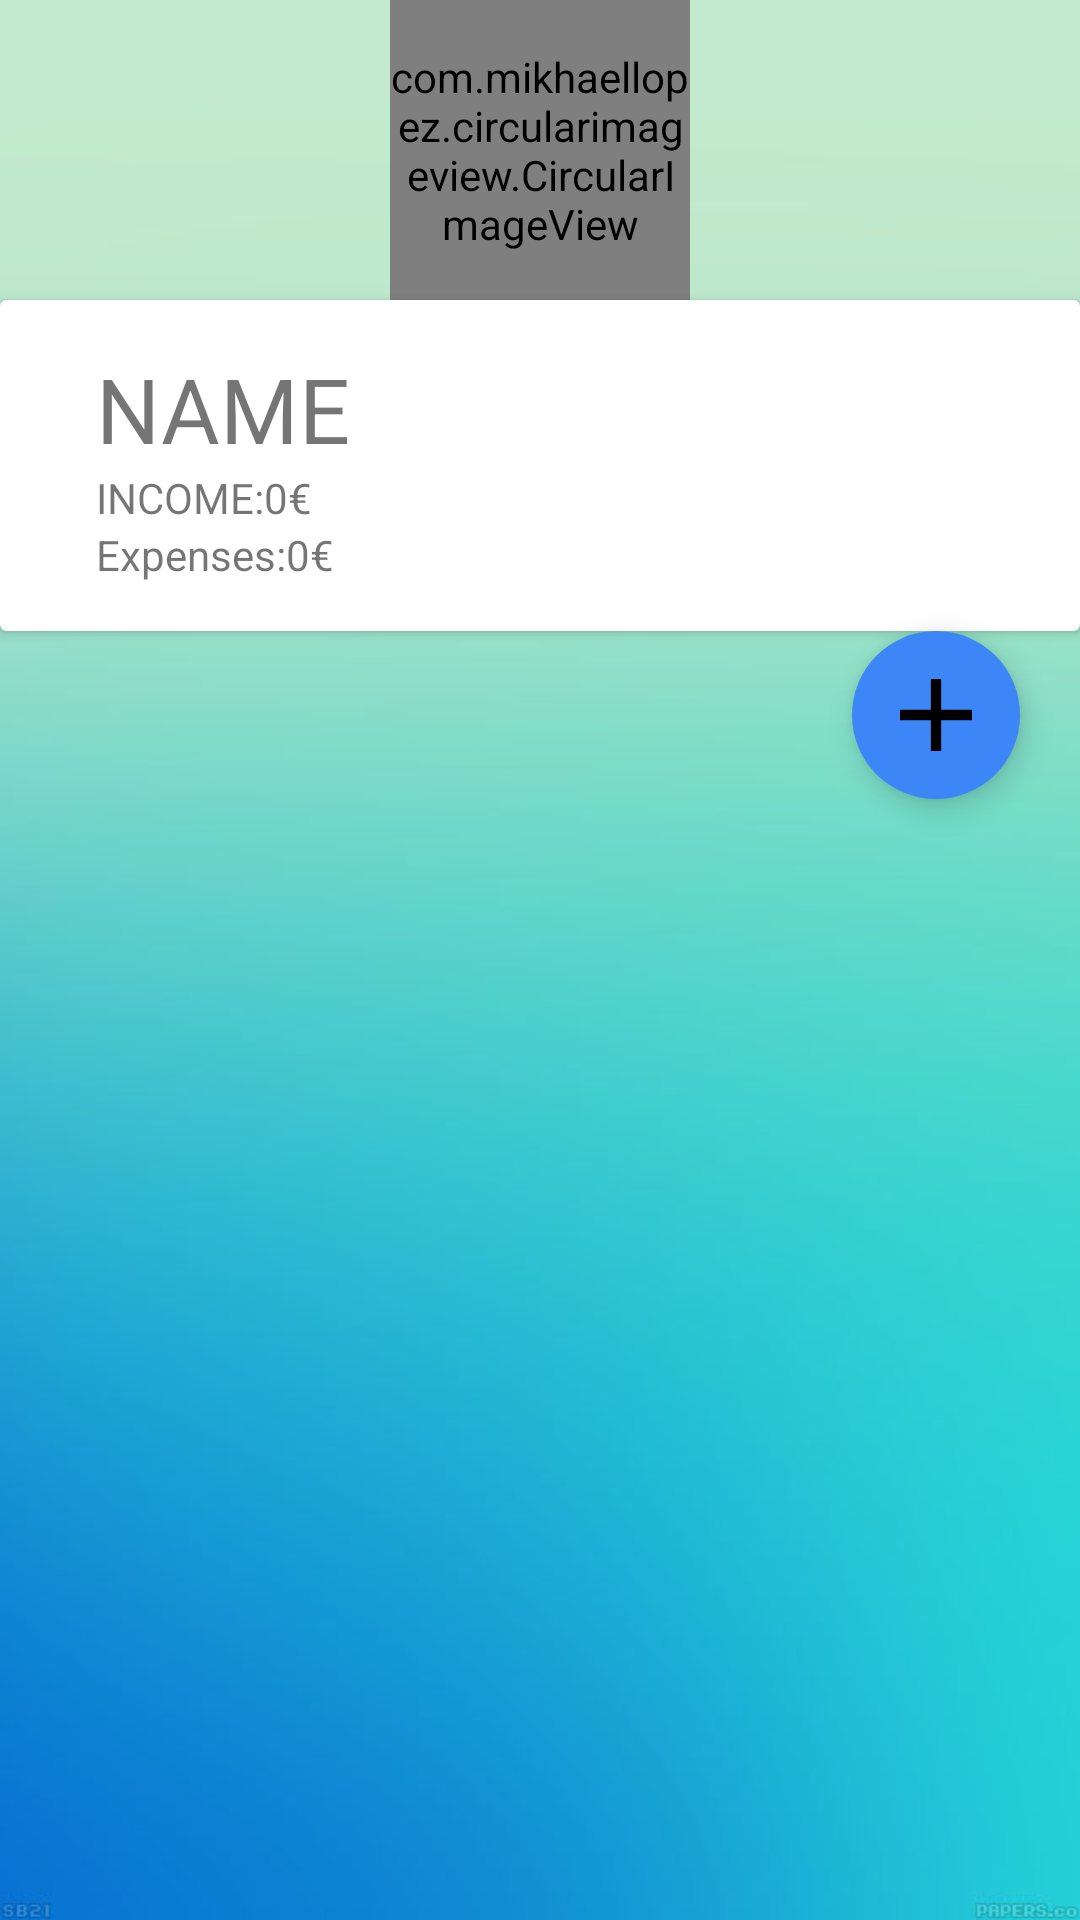

Screen size 1080px x 1920px. Icon name, then its center in pixels as [x,y]:
add plus: [936,715]
